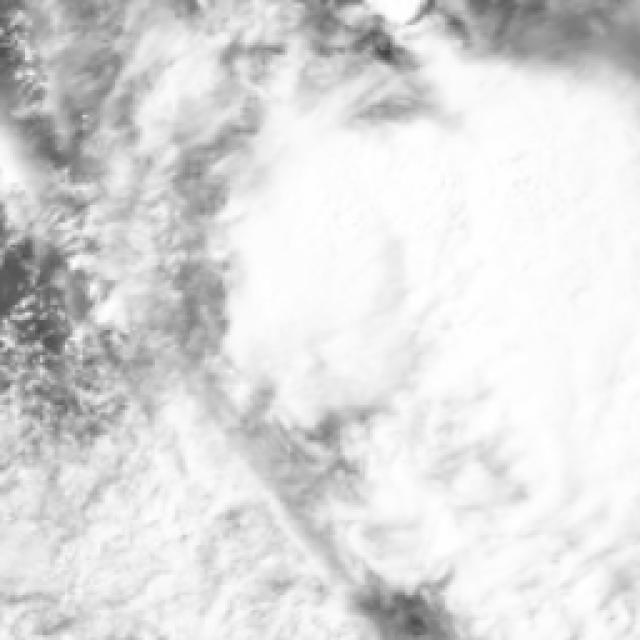CB: (270, 137, 640, 365), (521, 138, 633, 532)
